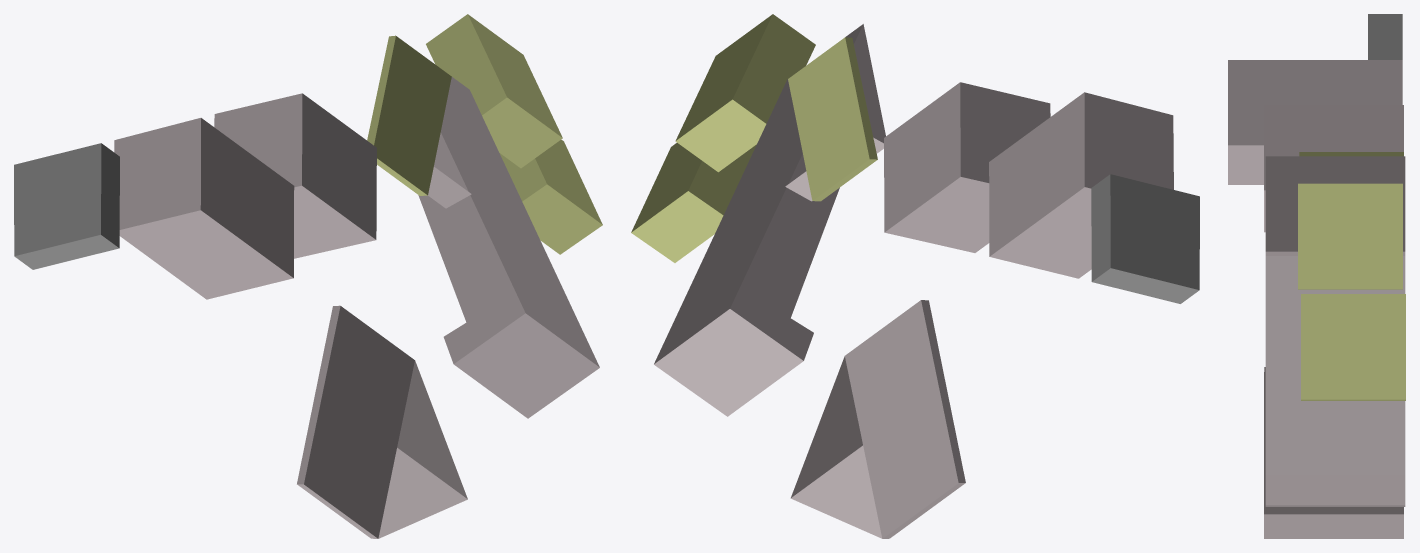
3 views of the same model, side by side, from view 1: azimuth 30°, elevation 25°; view 2: azimuth 150°, elevation 25°; view 3: azimuth 270°, elevation 25° (orthographic). The views are drawn at different scales.
Parts seen in each view (by area): view 1: 0_2_2_0_0_0_0_2_1; view 2: 0_2_2_0_0_0_0_2_1; view 3: 0_2_2_0_0_0_0_2_1.
Part boxes in pixels (x1,y1,x2,y2): 0_2_2_0_0_0_0_2_1: (14,14,602,538); 0_2_2_0_0_0_0_2_1: (631,14,1199,538); 0_2_2_0_0_0_0_2_1: (1228,14,1405,538).
Bounding box in the file's own units: 49.77 × 38.33 × 15.27.
